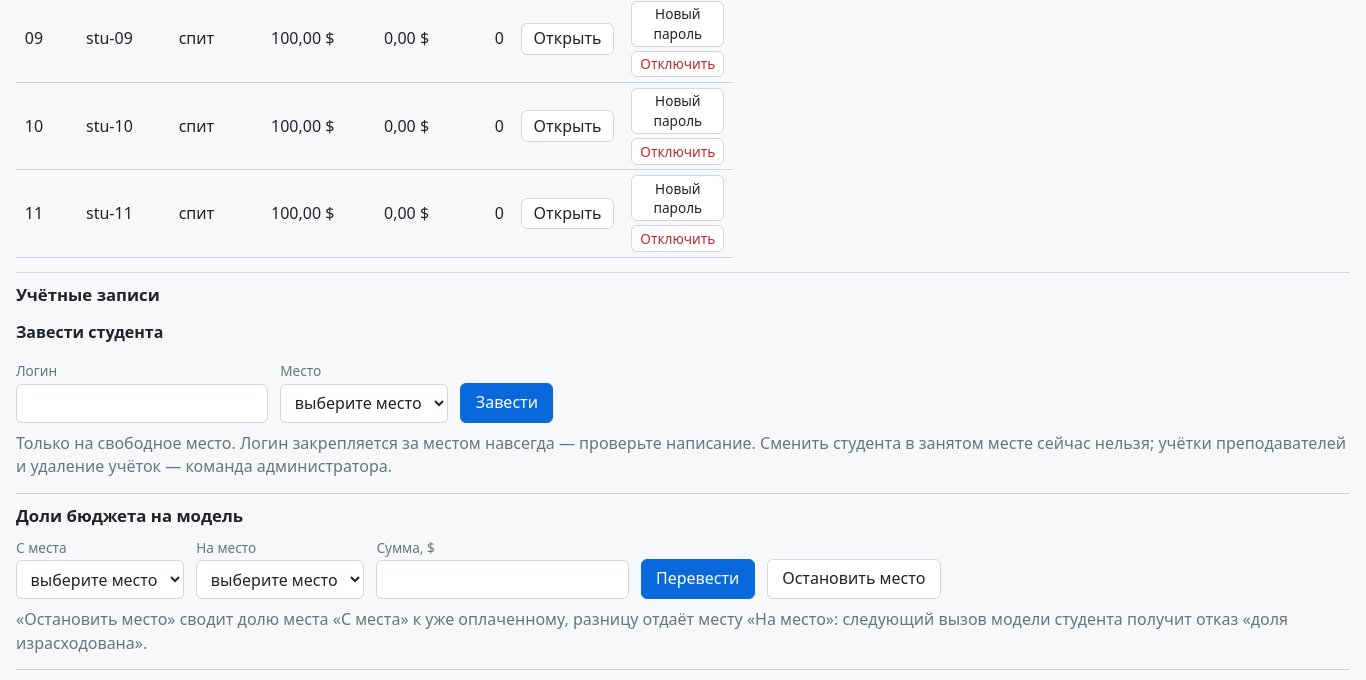
it: password_stays_out_of_console_storage_and_url
This screenshot has width=1366, height=680.
(page scrolled)
Type "d10-probe-n" into the field labelled "Логин" at [142, 404], box x1=16 y1=384 x2=268 y2=423
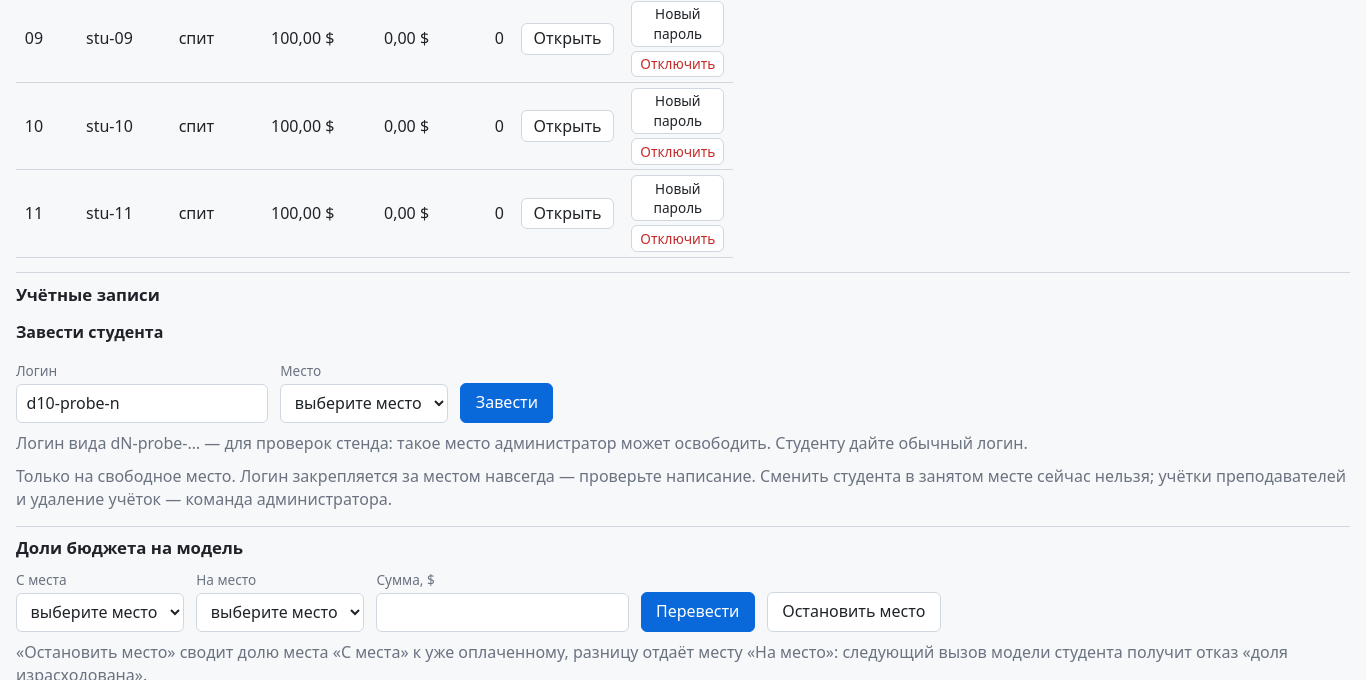
Select "04" in the dropdown labelled "Место" at [364, 404], box x1=280 y1=384 x2=448 y2=423
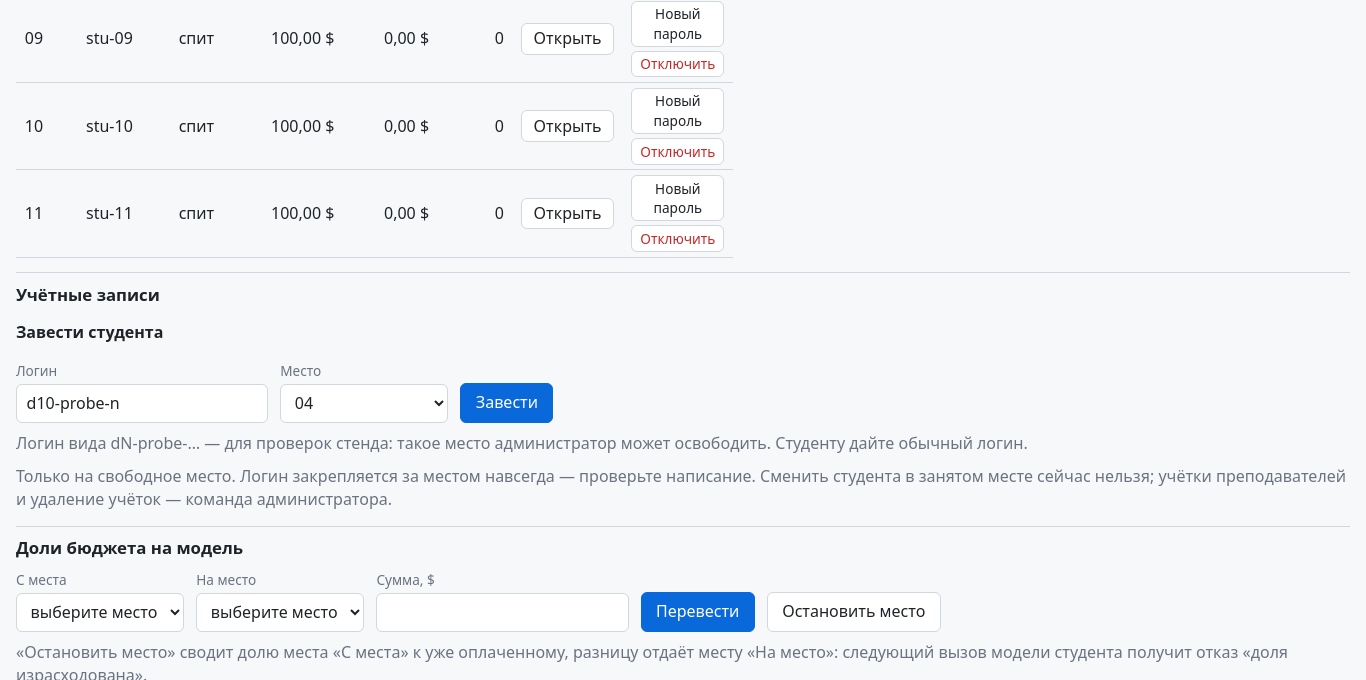
Click the button "Завести" at [507, 403], box x1=460 y1=383 x2=553 y2=423
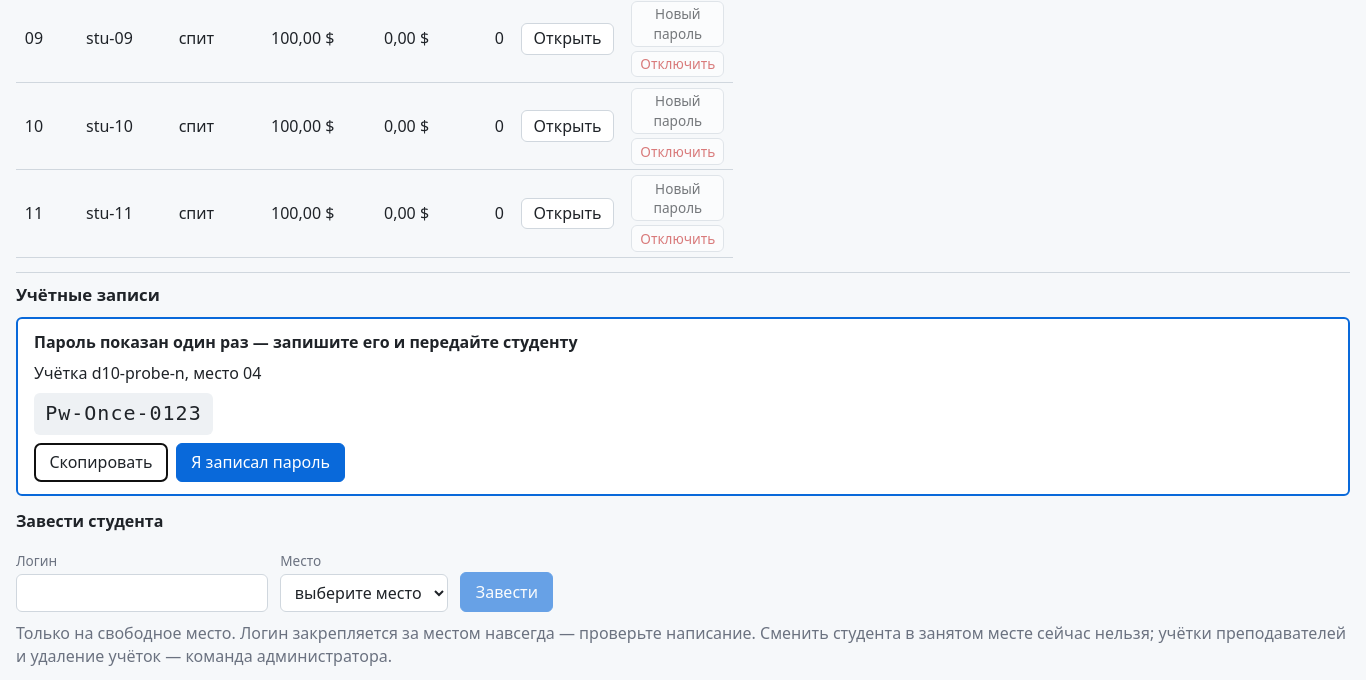
Check: the text "Пароль показан один раз — запишите его и передайте студенту" is shown, box x1=34 y1=331 x2=578 y2=354
Click the button "Скопировать" at [101, 463], box x1=34 y1=443 x2=168 y2=482
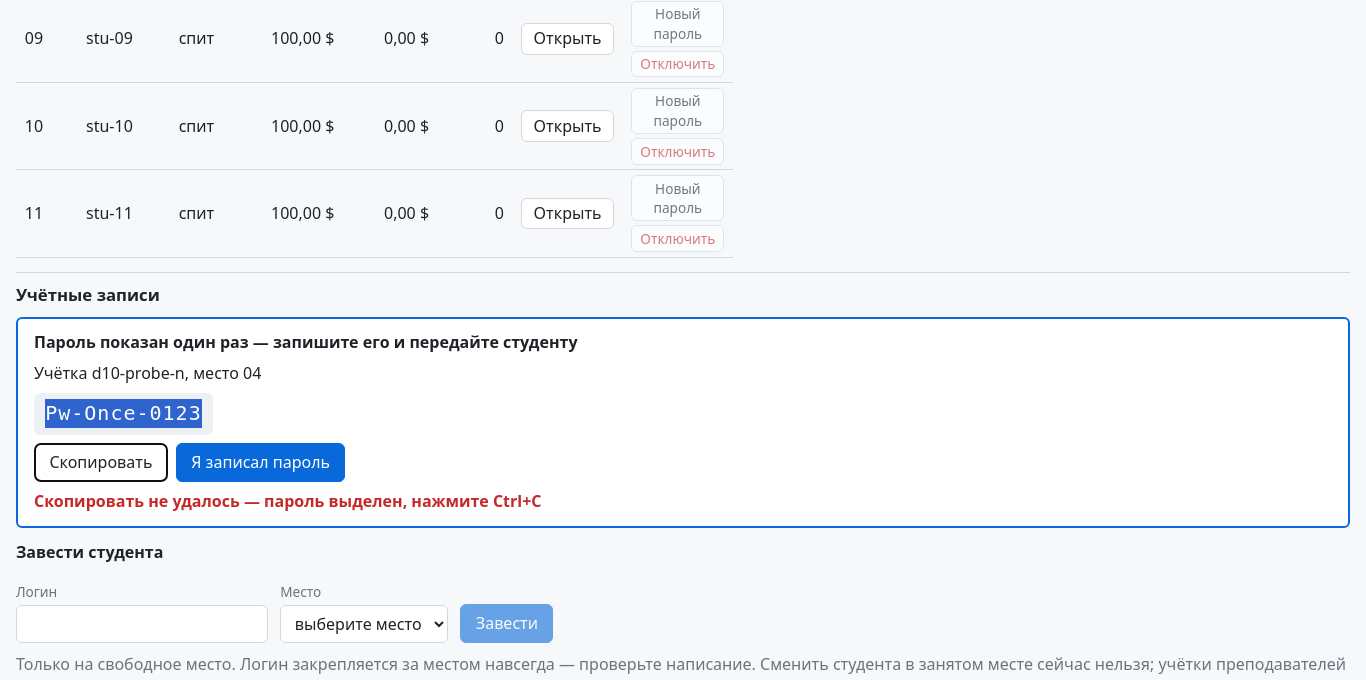
Check: the text "Скопировать не удалось — пароль выделен, нажмите Ctrl+C" is shown, box x1=34 y1=490 x2=542 y2=514
Click the button with class "acc-done" at [261, 463], box x1=176 y1=443 x2=345 y2=482
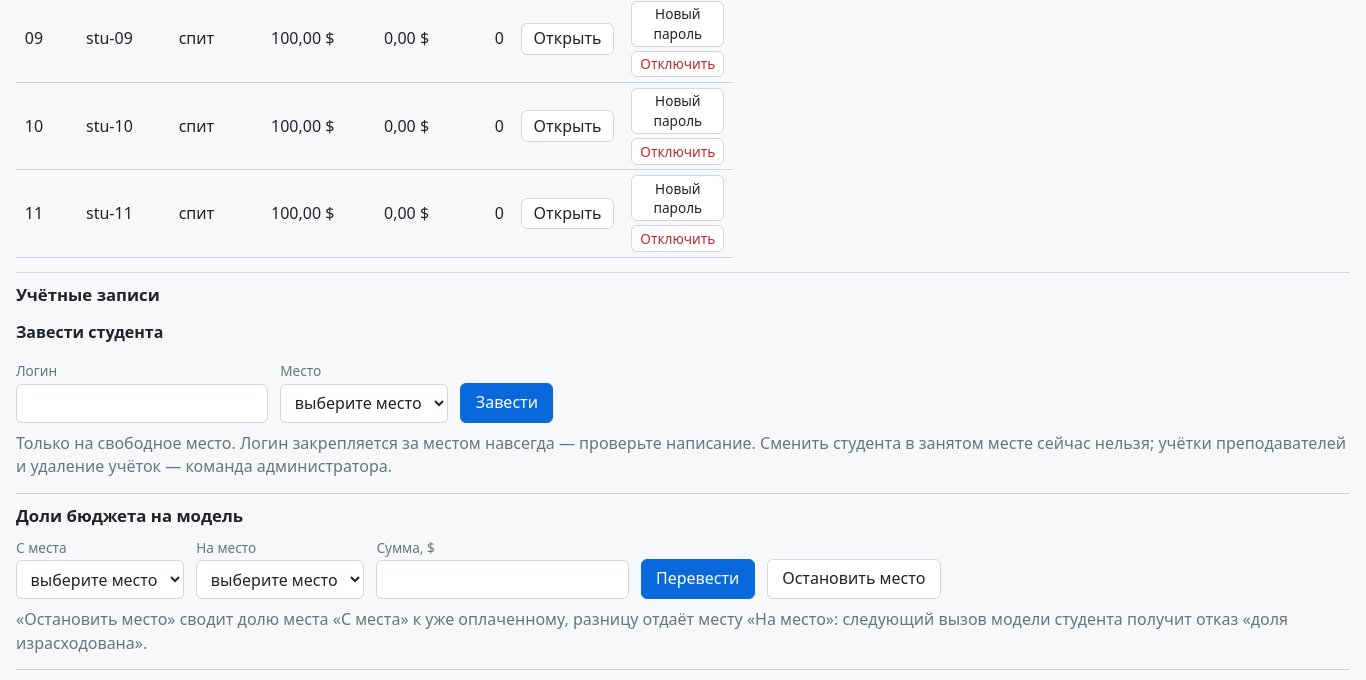
Check: the dialog is gone
Check: the text "Pw-Once-0123" is gone
